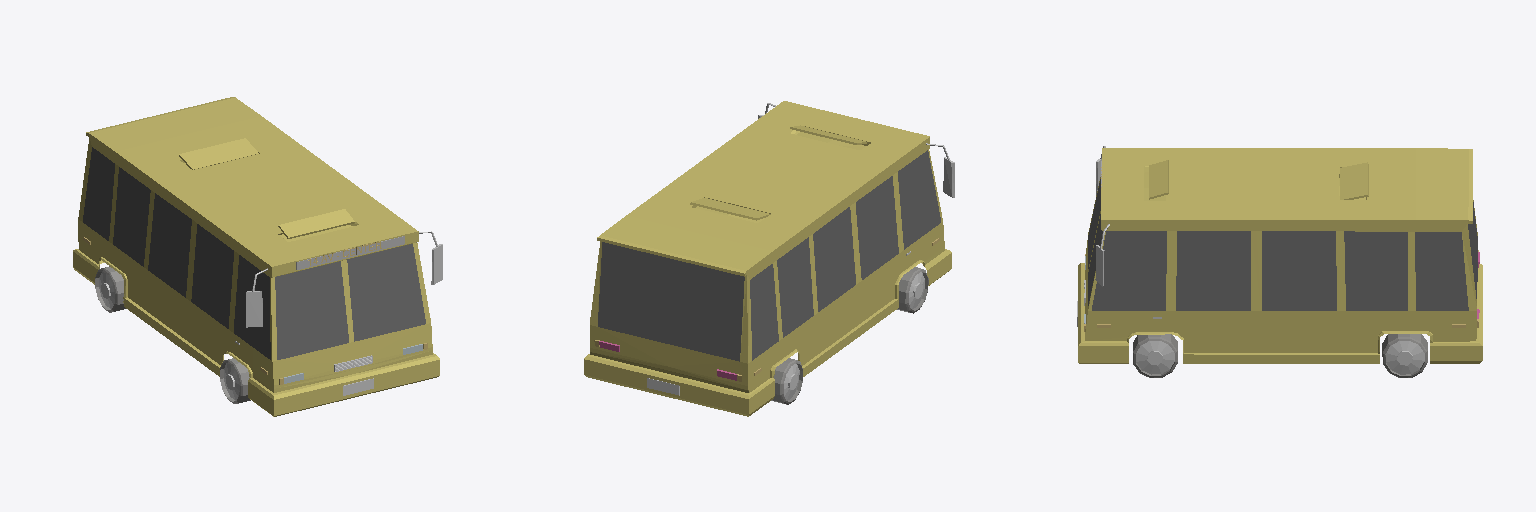
The picture shows the model from 3 angles: view 1: azimuth 30°, elevation 25°; view 2: azimuth 150°, elevation 25°; view 3: azimuth 270°, elevation 25°; orthographic projection.
Parts seen in each view (by area): view 1: object_0_Mesh_42; view 2: object_0_Mesh_42; view 3: object_0_Mesh_42.
Part boxes in pixels (bbox=[...]): object_0_Mesh_42: bbox=[73, 97, 442, 416]; object_0_Mesh_42: bbox=[584, 101, 954, 416]; object_0_Mesh_42: bbox=[1077, 146, 1482, 377].
Bounding box in the file's own units: 3.65 × 2.83 × 6.53.
Materials: 1 (1 with a texture image).